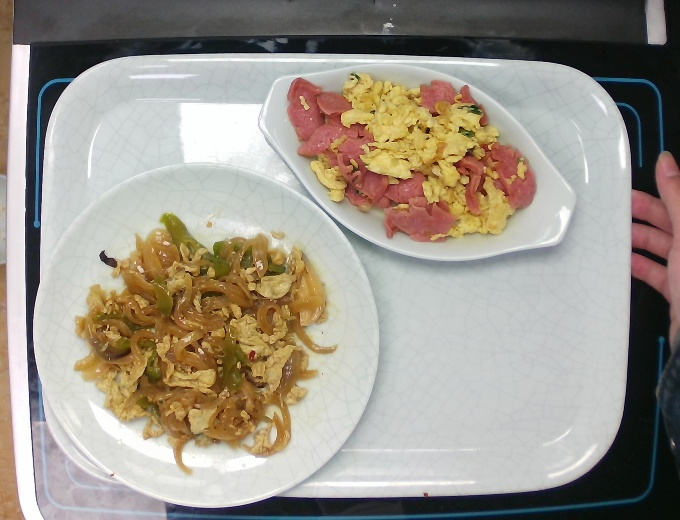JYsf-Da_Yuan_Pan: (29, 160, 381, 509)
JYsf-Yu_Pan: (255, 60, 581, 265)
